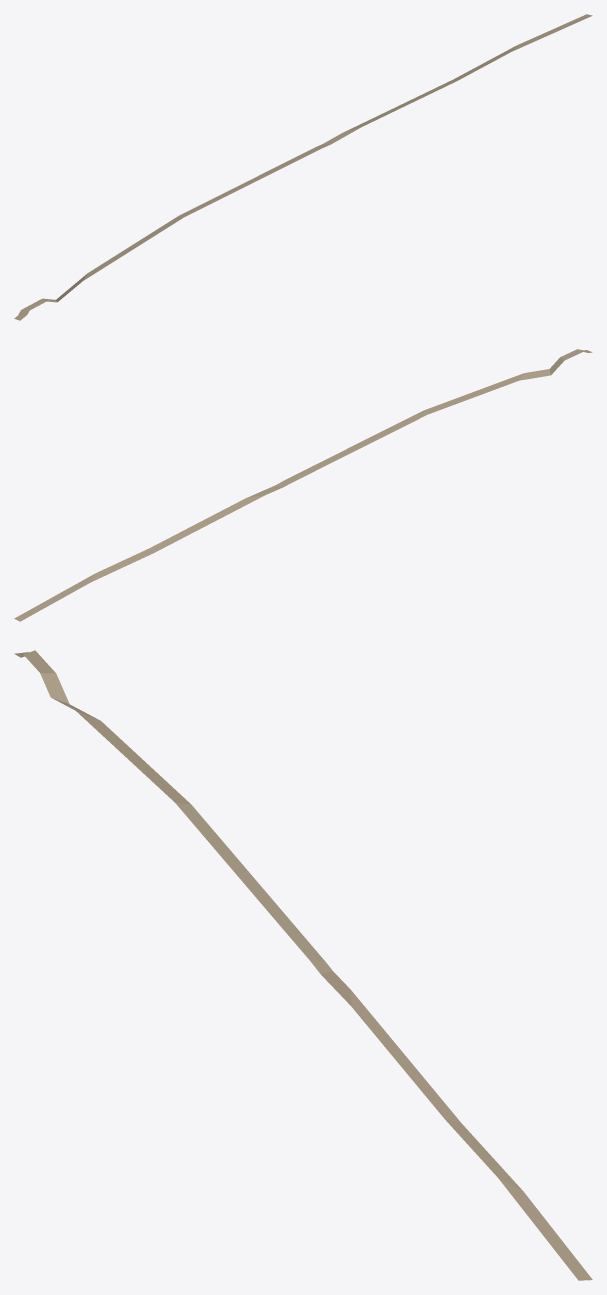
The model's file is farm_27_15_track.glb.
3 views of the same model, one above another, from view 1: azimuth 30°, elevation 25°; view 2: azimuth 210°, elevation 25°; view 3: azimuth 270°, elevation 25° (orthographic). The views are drawn at different scales.
Visible parts, largest first — view 1: geometry_0; view 2: geometry_0; view 3: geometry_0.
Boxes of the visible parts, x1=… form: geometry_0: x1=14, y1=14, x2=592, y2=320; geometry_0: x1=14, y1=349, x2=592, y2=621; geometry_0: x1=14, y1=650, x2=592, y2=1280.
Bounding box in the file's own units: 336 × 11.05 × 124.
